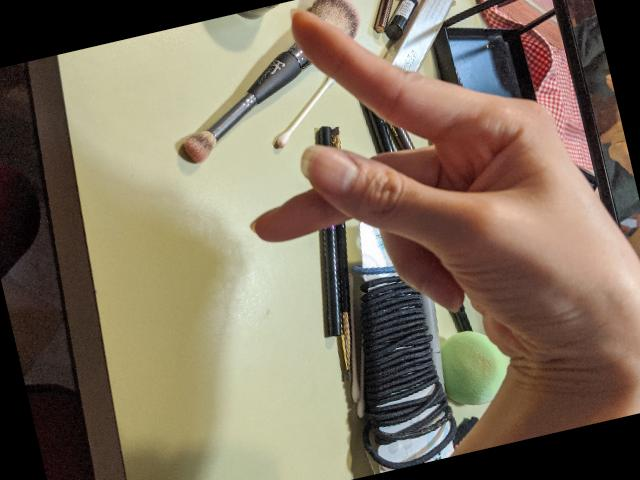P: (200, 0, 640, 419)
